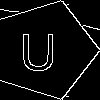U: (19, 25, 57, 71)
